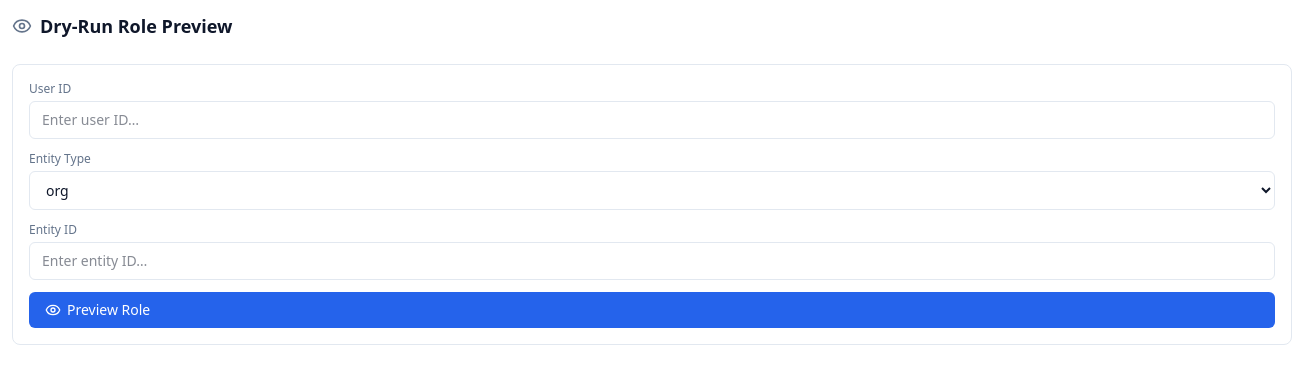
RBACPolicyPreview › shows validation error when user ID is empty
This screenshot has width=1292, height=390.
Click the button with test id "preview-submit-btn" at (109, 310), box [29,292,1275,328]
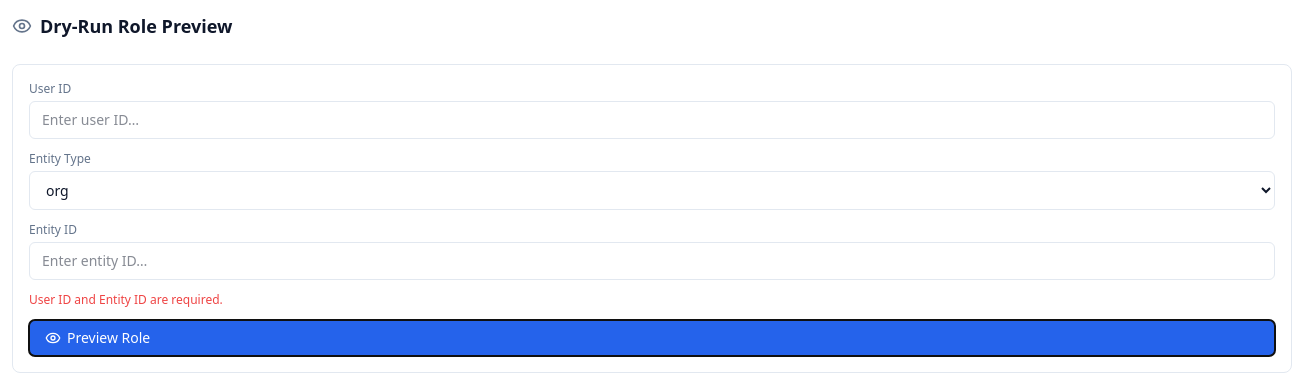
Expected: the text "User ID and Entity ID are required." is shown, [29,291,223,308]
